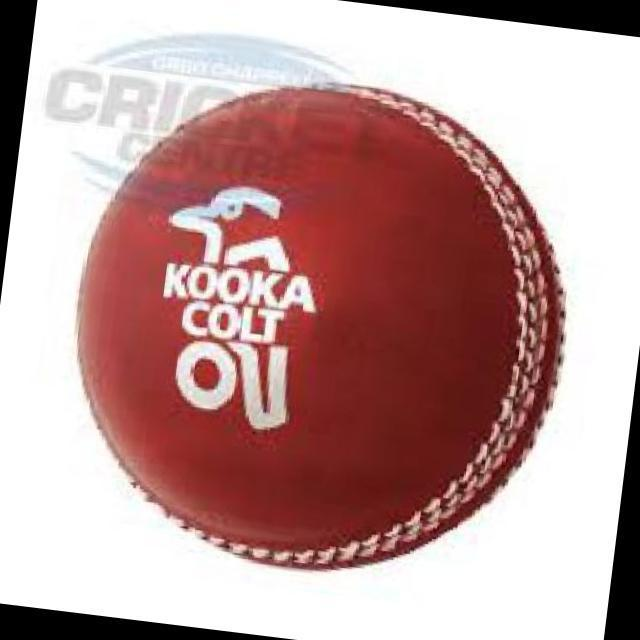-: (39, 42, 574, 563)
